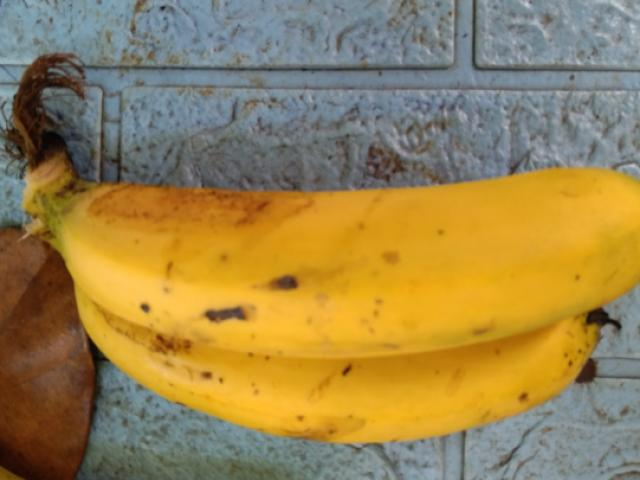ripe: (81, 157, 639, 345), (57, 310, 606, 444)
